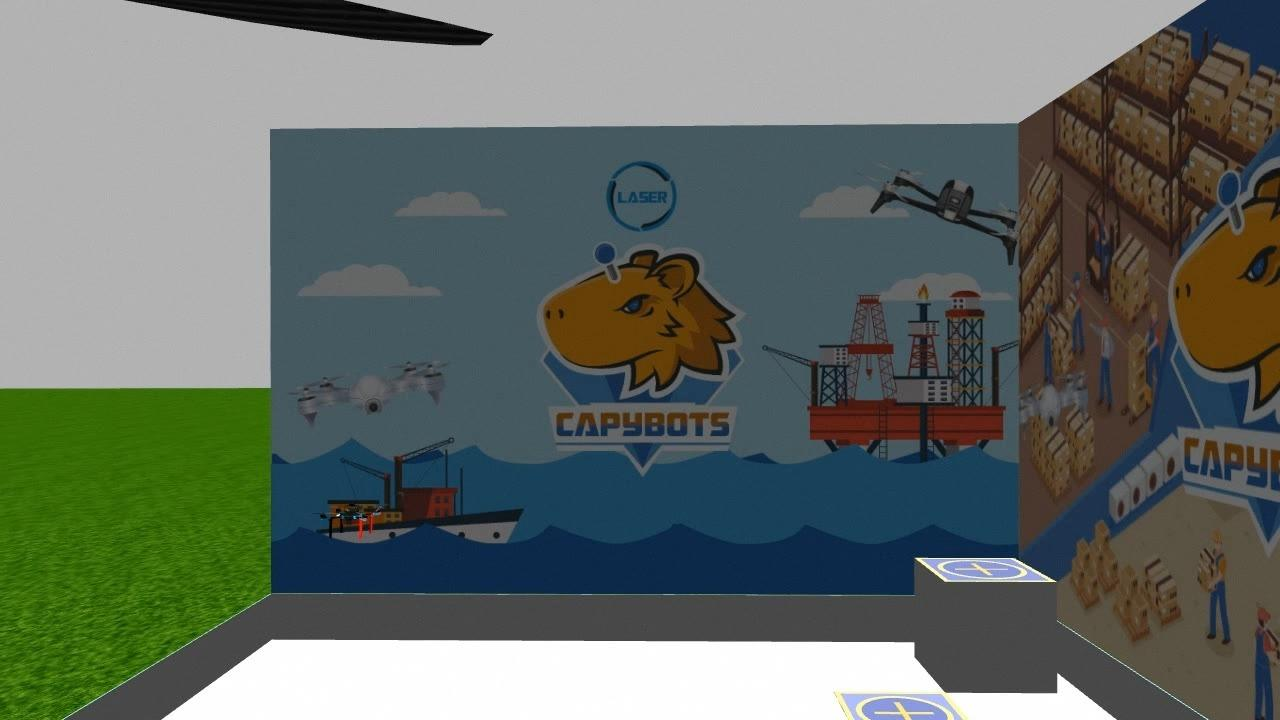UAV: (310, 490, 393, 547)
